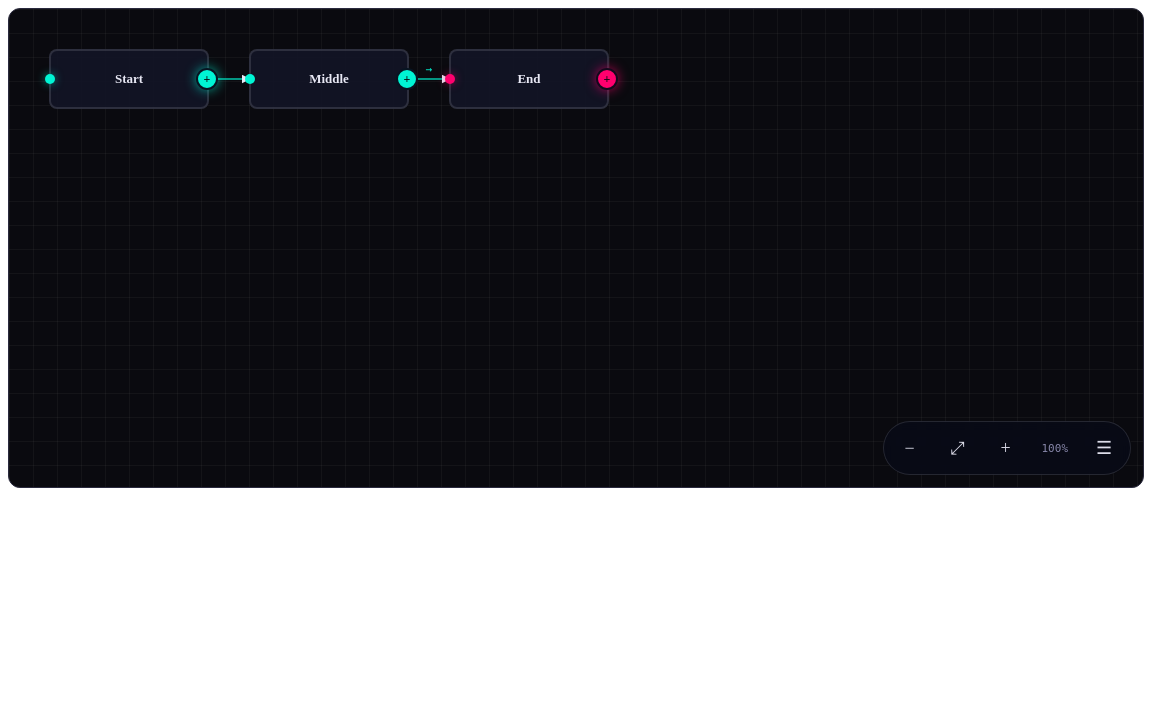
TkxFlowChart inspector › toggle button shows + hides the inspector
Select a node so the inspector has something to show
Press the mouse on the button with test id "flow-node-n1" at (129, 79), box [49,49,209,109]
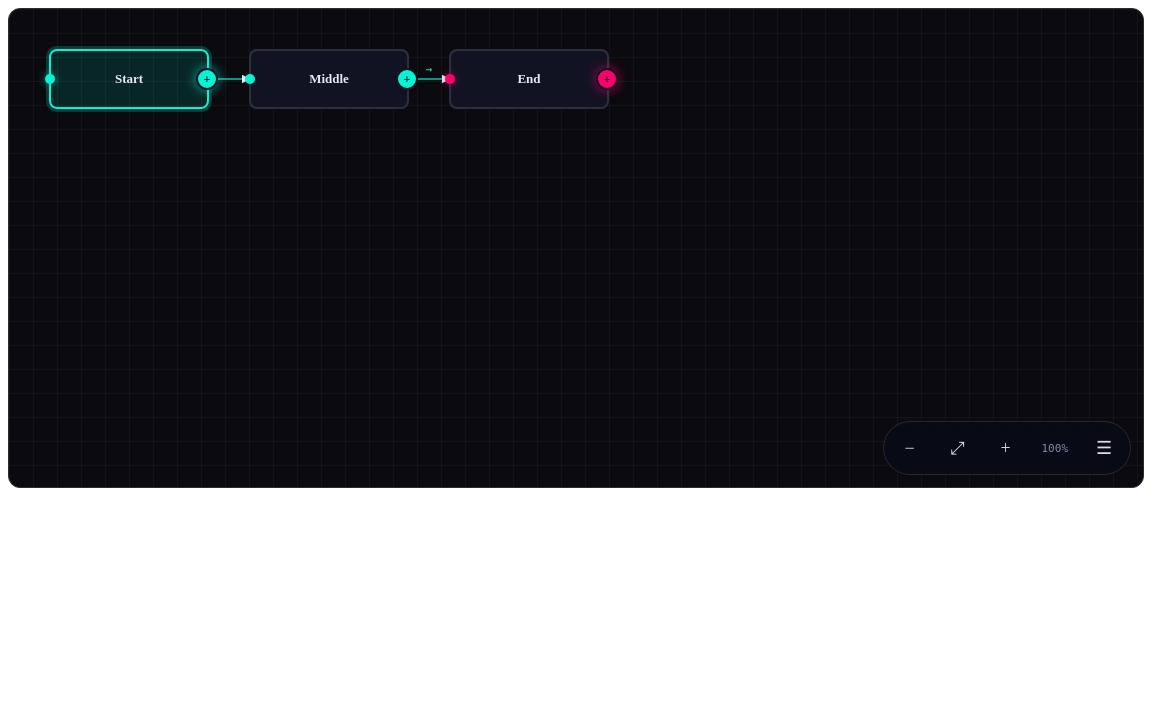
Click the button with test id "flow-toggle-inspector" at (1104, 448), box [1082,426,1126,470]
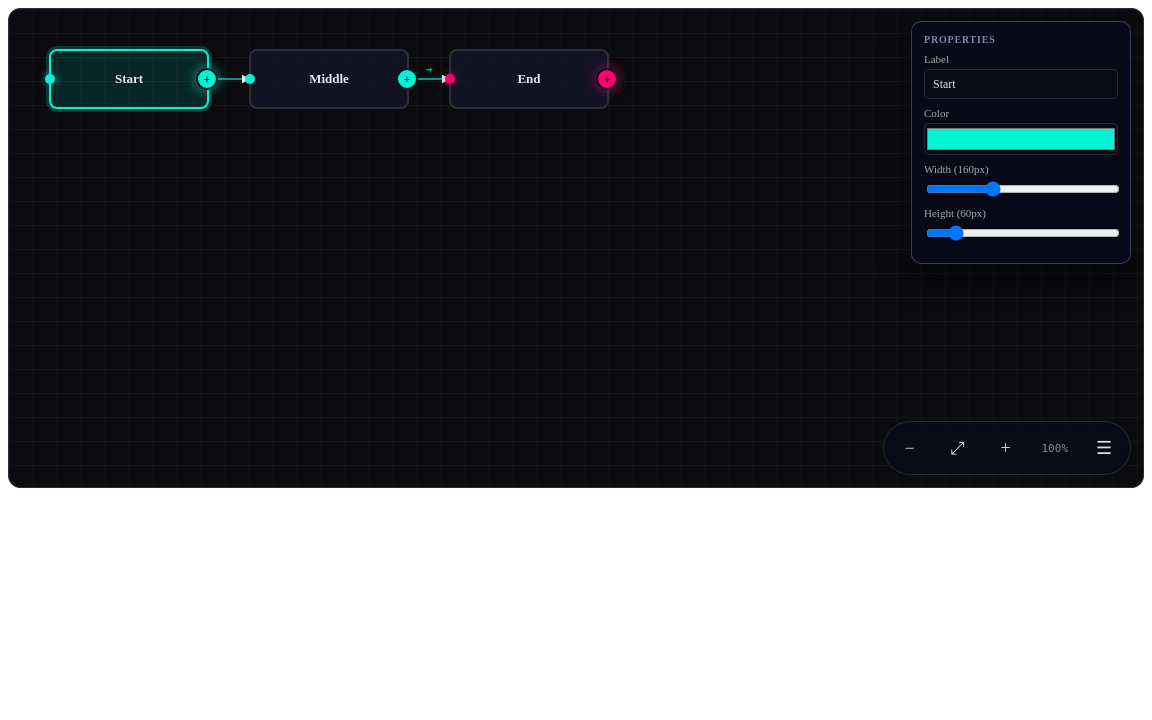
Now the element with test id "flow-inspector" is shown, box [911,21,1131,264]
Click the button with test id "flow-toggle-inspector" at (1104, 448), box [1082,426,1126,470]
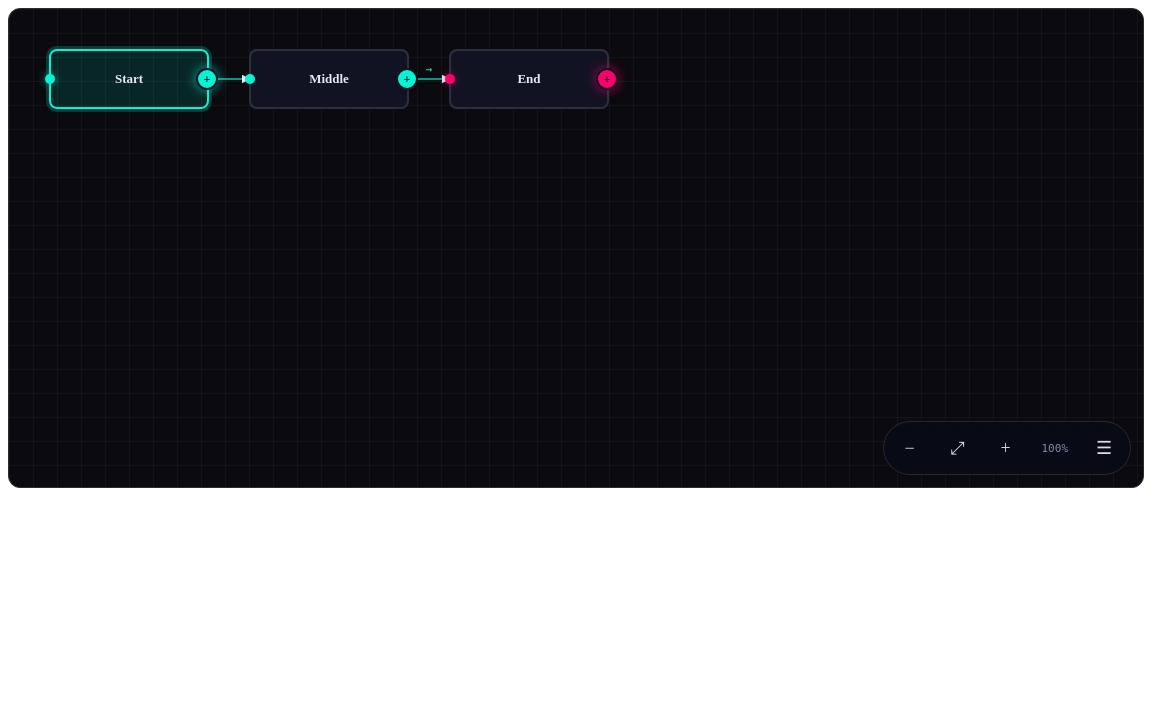
Now the element with test id "flow-inspector" is gone
